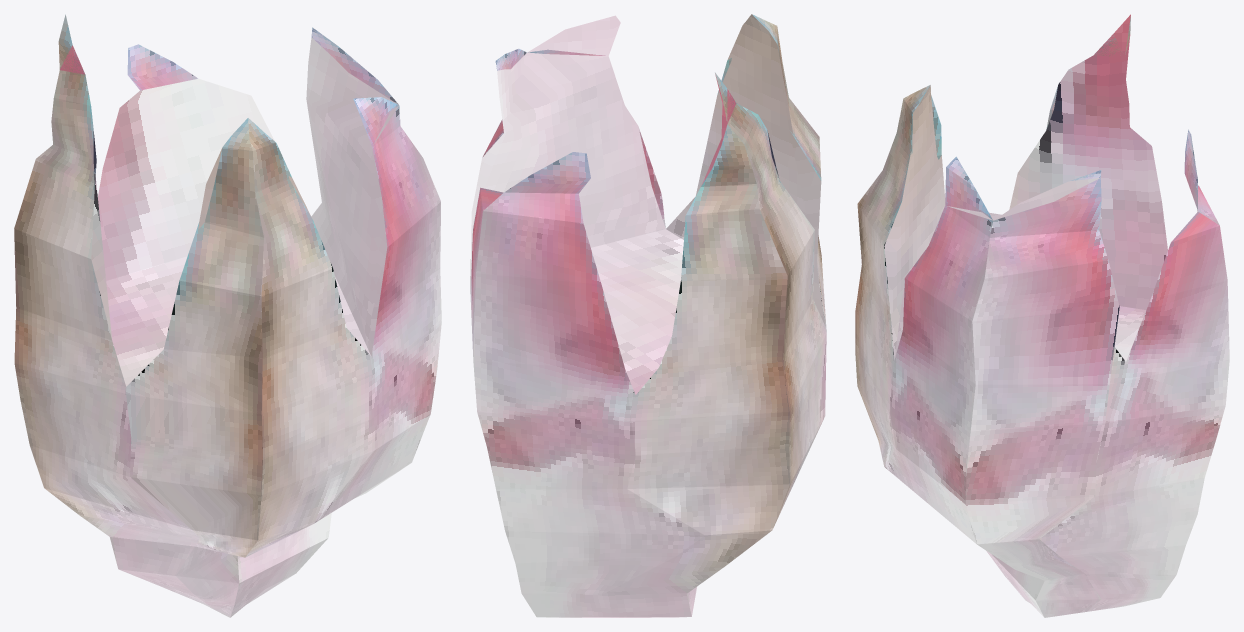
3 views of the same model, side by side, from view 1: azimuth 30°, elevation 25°; view 2: azimuth 150°, elevation 25°; view 3: azimuth 270°, elevation 25° (orthographic). The views are drawn at different scales.
Visible parts, largest first — view 1: SPLICE_2.004; view 2: SPLICE_2.004; view 3: SPLICE_2.004.
Boxes of the visible parts, x1=… form: SPLICE_2.004: x1=14, y1=14, x2=441, y2=617; SPLICE_2.004: x1=470, y1=14, x2=826, y2=617; SPLICE_2.004: x1=855, y1=14, x2=1229, y2=617.
Size of the model in its own units: 1.09 by 1.73 by 1.09.
1 material, 1 textured.
